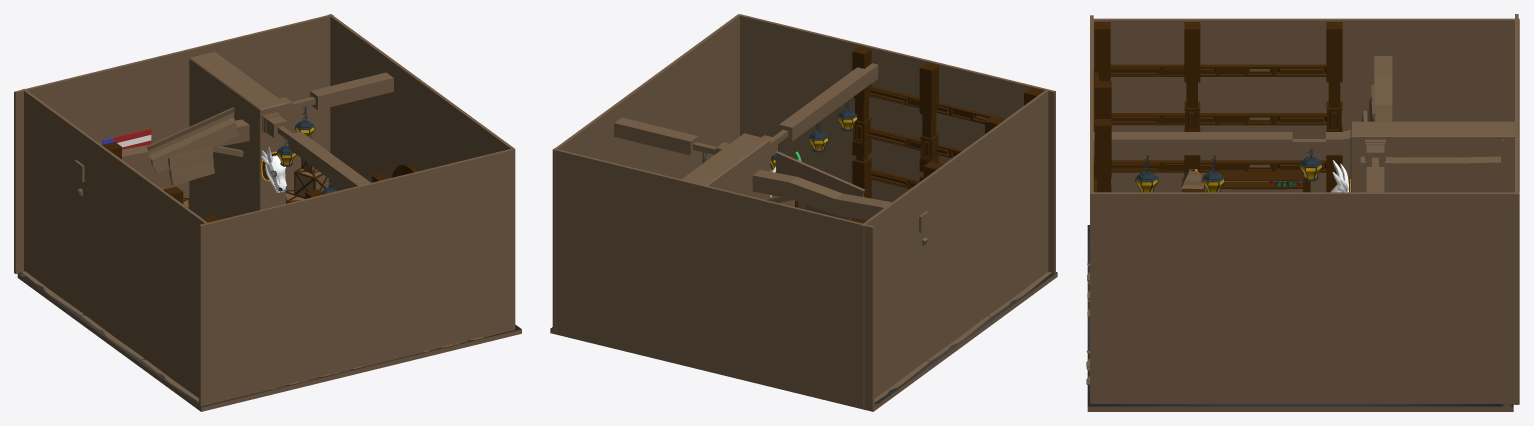
The model's file is StoreInteriorUnityExport.fbx.
3 views of the same model, side by side, from view 1: azimuth 30°, elevation 25°; view 2: azimuth 150°, elevation 25°; view 3: azimuth 270°, elevation 25° (orthographic). The views are drawn at different scales.
Visible parts, largest first — view 1: StoreLayoutTest, Counter, GroundBase, SignPlank, CielingRod, CielingRod.001, OverHang, SignPlank.001, Crate.002, DragonSkull, Flag; view 2: StoreLayoutTest, OverHang, Counter, GroundBase, CielingRod, WallFraming.004, CielingRod.001, WallFraming.003, SignPlank, WallTrim.005, WallTrim.004, WallTrim.003; view 3: StoreLayoutTest, Counter, CielingRod, GroundBase, WallTrim, WallTrim.002, WallFraming.002, WallTrim.001, Shelf.002, WallFraming, Shelf.001, OverHang (+8 smaller).
Boxes of the visible parts, bbox=[...] form: StoreLayoutTest: bbox=[14, 14, 515, 406]; Counter: bbox=[189, 51, 285, 219]; GroundBase: bbox=[17, 271, 521, 411]; SignPlank: bbox=[147, 107, 239, 173]; CielingRod: bbox=[262, 112, 370, 189]; CielingRod.001: bbox=[279, 72, 393, 117]; OverHang: bbox=[74, 119, 249, 195]; SignPlank.001: bbox=[168, 146, 214, 185]; Crate.002: bbox=[286, 168, 330, 203]; DragonSkull: bbox=[261, 144, 288, 192]; Flag: bbox=[102, 128, 151, 149]; StoreLayoutTest: bbox=[552, 14, 1055, 409]; OverHang: bbox=[752, 170, 928, 245]; Counter: bbox=[681, 133, 770, 199]; GroundBase: bbox=[550, 272, 1057, 411]; CielingRod: bbox=[762, 63, 878, 158]; WallFraming.004: bbox=[852, 46, 871, 198]; CielingRod.001: bbox=[614, 117, 729, 155]; WallFraming.003: bbox=[919, 62, 938, 181]; SignPlank: bbox=[775, 151, 864, 196]; WallTrim.005: bbox=[869, 86, 1005, 124]; WallTrim.004: bbox=[869, 128, 962, 158]; WallTrim.003: bbox=[869, 169, 919, 188]; StoreLayoutTest: bbox=[1090, 14, 1519, 404]; Counter: bbox=[1350, 121, 1514, 192]; CielingRod: bbox=[1093, 130, 1350, 157]; GroundBase: bbox=[1086, 225, 1513, 411]; WallTrim: bbox=[1111, 113, 1326, 125]; WallTrim.002: bbox=[1110, 64, 1326, 76]; WallFraming.002: bbox=[1326, 22, 1342, 192]; WallTrim.001: bbox=[1111, 160, 1326, 172]; Shelf.002: bbox=[1357, 139, 1510, 192]; WallFraming: bbox=[1184, 22, 1200, 176]; Shelf.001: bbox=[1217, 170, 1310, 192]; OverHang: bbox=[1374, 56, 1392, 171].
Bounding box in the file's own units: 2114 × 1159 × 2116.
